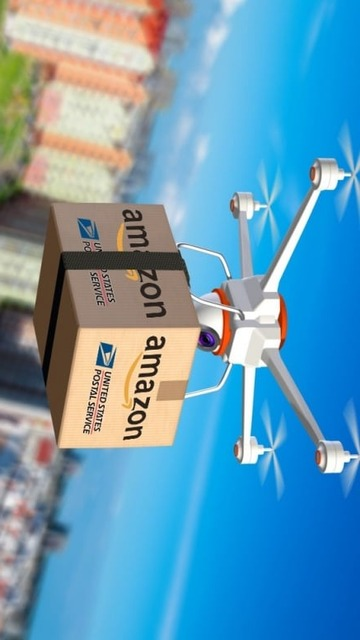drone: (30, 120, 360, 504)
